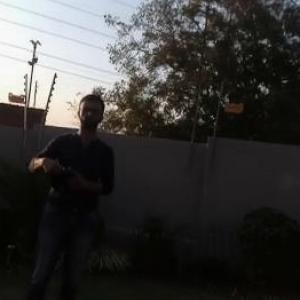follow: (16, 88, 119, 299)
